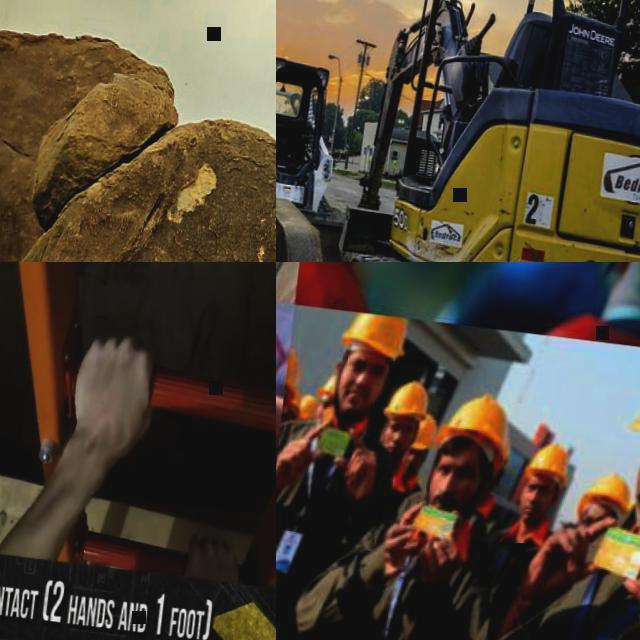helmet: (437, 387, 516, 458), (340, 308, 416, 360), (574, 472, 636, 516), (377, 377, 431, 420), (520, 440, 573, 482), (409, 416, 440, 454), (282, 348, 304, 392), (292, 392, 322, 419), (320, 373, 335, 402)
machinery: (313, 0, 640, 262), (0, 0, 276, 262), (276, 51, 383, 262)
no_mask: (337, 380, 381, 420), (428, 486, 475, 519), (519, 497, 550, 522), (381, 438, 406, 459), (400, 462, 420, 478)
no_vest: (276, 413, 374, 634), (308, 517, 475, 640), (502, 521, 640, 640), (481, 262, 615, 321), (480, 524, 547, 616), (387, 472, 420, 516)
person: (283, 369, 511, 640), (443, 328, 640, 640), (276, 302, 396, 640), (0, 323, 162, 568), (464, 436, 572, 610), (457, 262, 640, 343), (291, 262, 460, 312), (550, 262, 640, 348), (382, 416, 438, 518), (376, 376, 427, 476), (564, 463, 636, 532), (476, 438, 514, 523), (282, 348, 310, 431), (298, 388, 321, 427)
